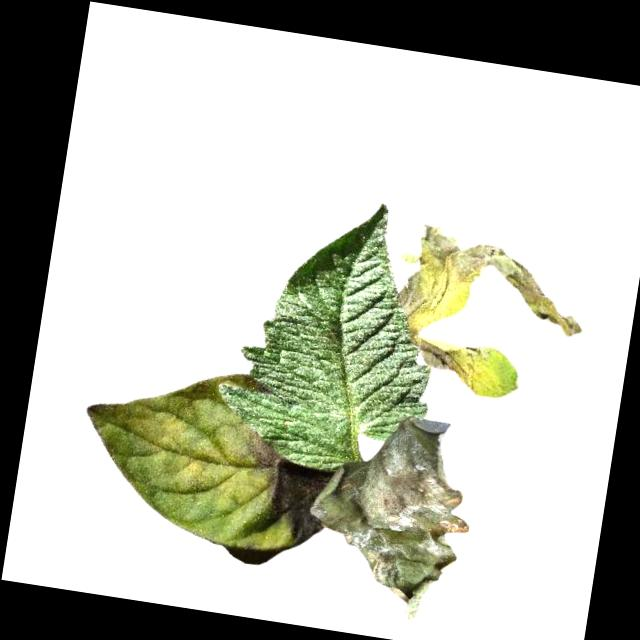Late_blight: (298, 405, 484, 624), (396, 218, 598, 340), (232, 431, 323, 543), (411, 334, 503, 398)
healthy: (210, 183, 457, 482)
